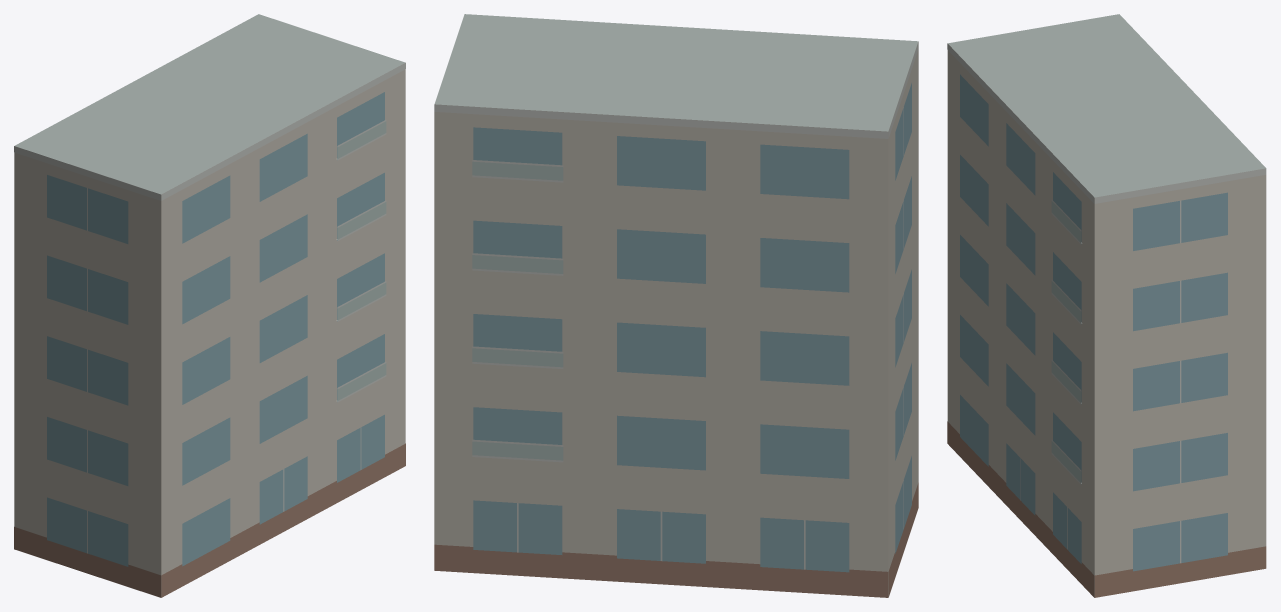
File: residential-cd942453-699d-440f-a9b9-a9c86ec80073.glb
The picture shows the model from 3 angles, left to right: view 1: azimuth 30°, elevation 25°; view 2: azimuth 150°, elevation 25°; view 3: azimuth 270°, elevation 25°; orthographic projection. The views are drawn at different scales.
Parts seen in each view (by area): view 1: residential-cd942453-699d-440f-a9b9-a9c86ec80073.tmp; view 2: residential-cd942453-699d-440f-a9b9-a9c86ec80073.tmp; view 3: residential-cd942453-699d-440f-a9b9-a9c86ec80073.tmp.
Boxes of the visible parts, x1,y1,x2,y2 form: residential-cd942453-699d-440f-a9b9-a9c86ec80073.tmp: (14,14,405,597); residential-cd942453-699d-440f-a9b9-a9c86ec80073.tmp: (434,14,918,597); residential-cd942453-699d-440f-a9b9-a9c86ec80073.tmp: (947,14,1266,597).
Size of the model in its own units: 15.01 by 15.25 by 11.02.
